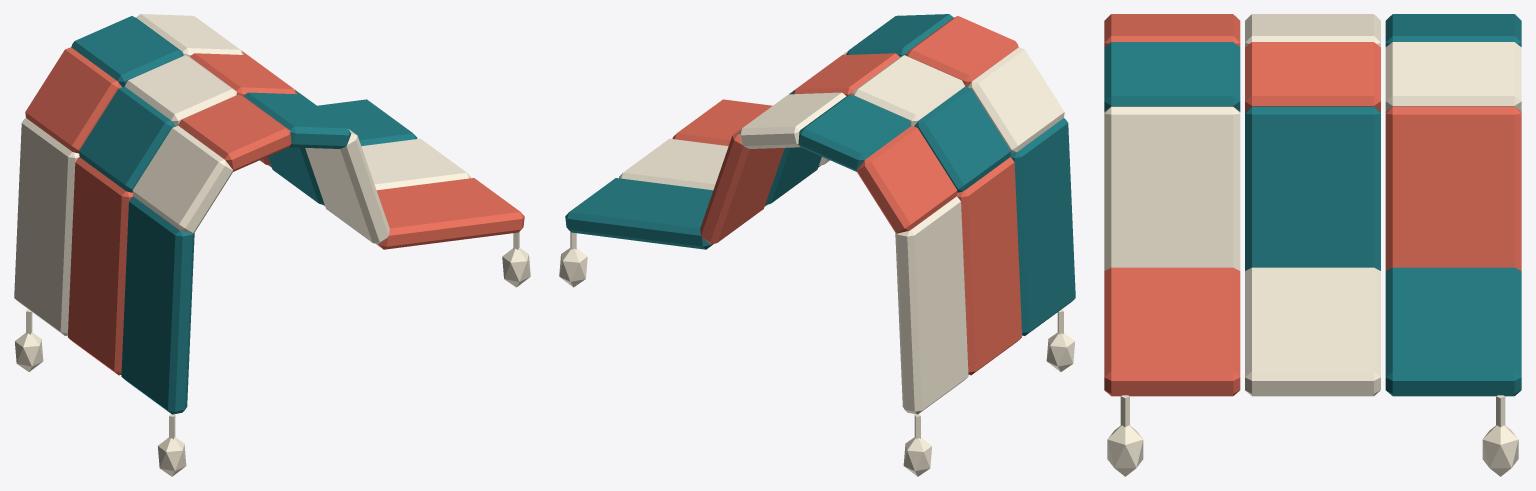
Rendered from patchwork_throw_sofa_2seat.glb.
3 renders of one model, left to right at view 1: azimuth 30°, elevation 25°; view 2: azimuth 150°, elevation 25°; view 3: azimuth 270°, elevation 25°, orthographic. The views are drawn at different scales.
Parts seen in each view (by area): view 1: patchwork_throw_sofa_2seat; view 2: patchwork_throw_sofa_2seat; view 3: patchwork_throw_sofa_2seat.
Part boxes in pixels (x1,y1,x2,y2): patchwork_throw_sofa_2seat: (14,14,530,476); patchwork_throw_sofa_2seat: (559,14,1075,476); patchwork_throw_sofa_2seat: (1104,14,1521,476).
Bounding box in the file's own units: 0.4772 × 0.4027 × 0.356.
